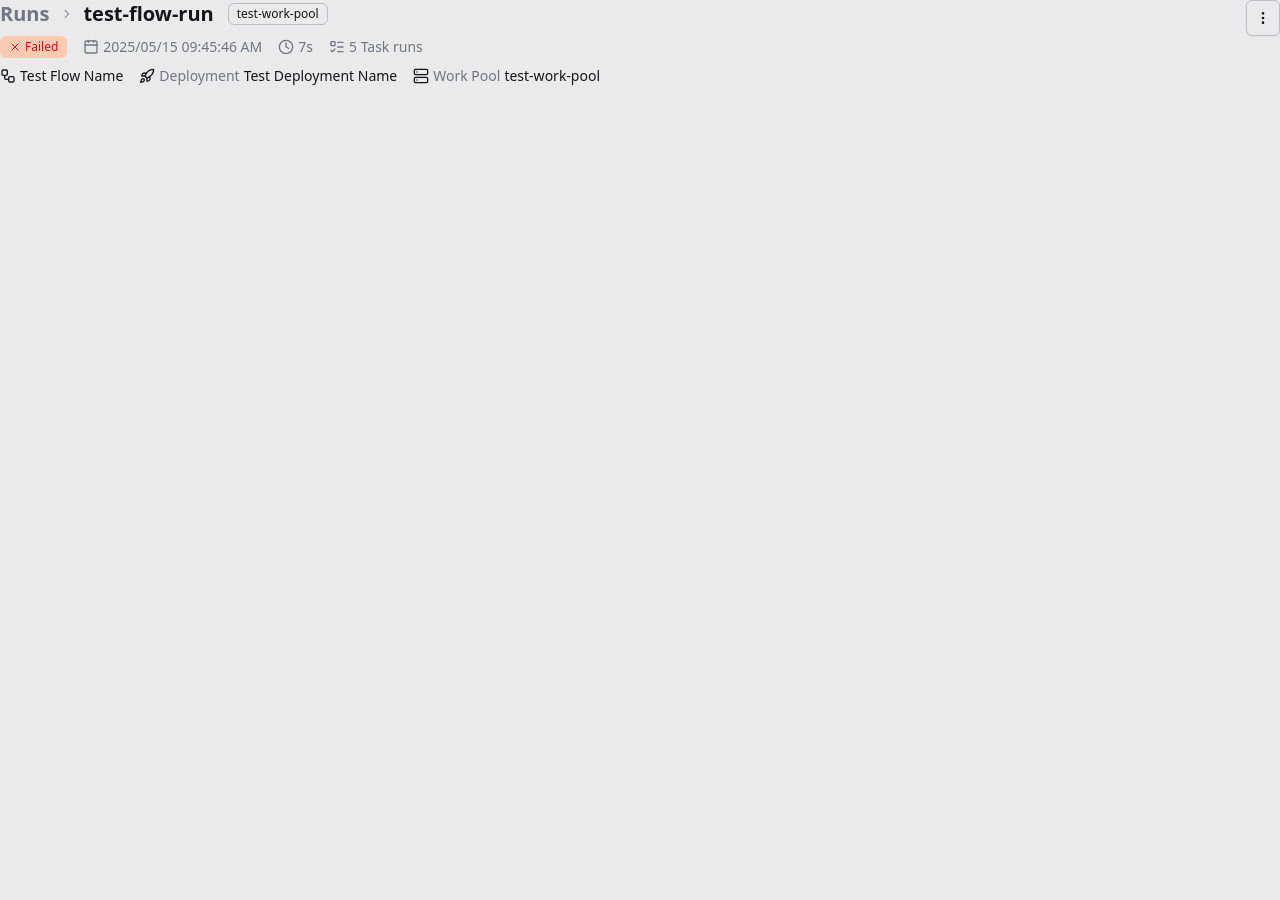
Test: FlowRunHeader › opens change state dialog when 'Change state' is clicked
Expected: the text "test-flow-run" is shown, [83,0,214,28]
Click the button.
click(1263, 18)  # box [1246,0,1279,36]
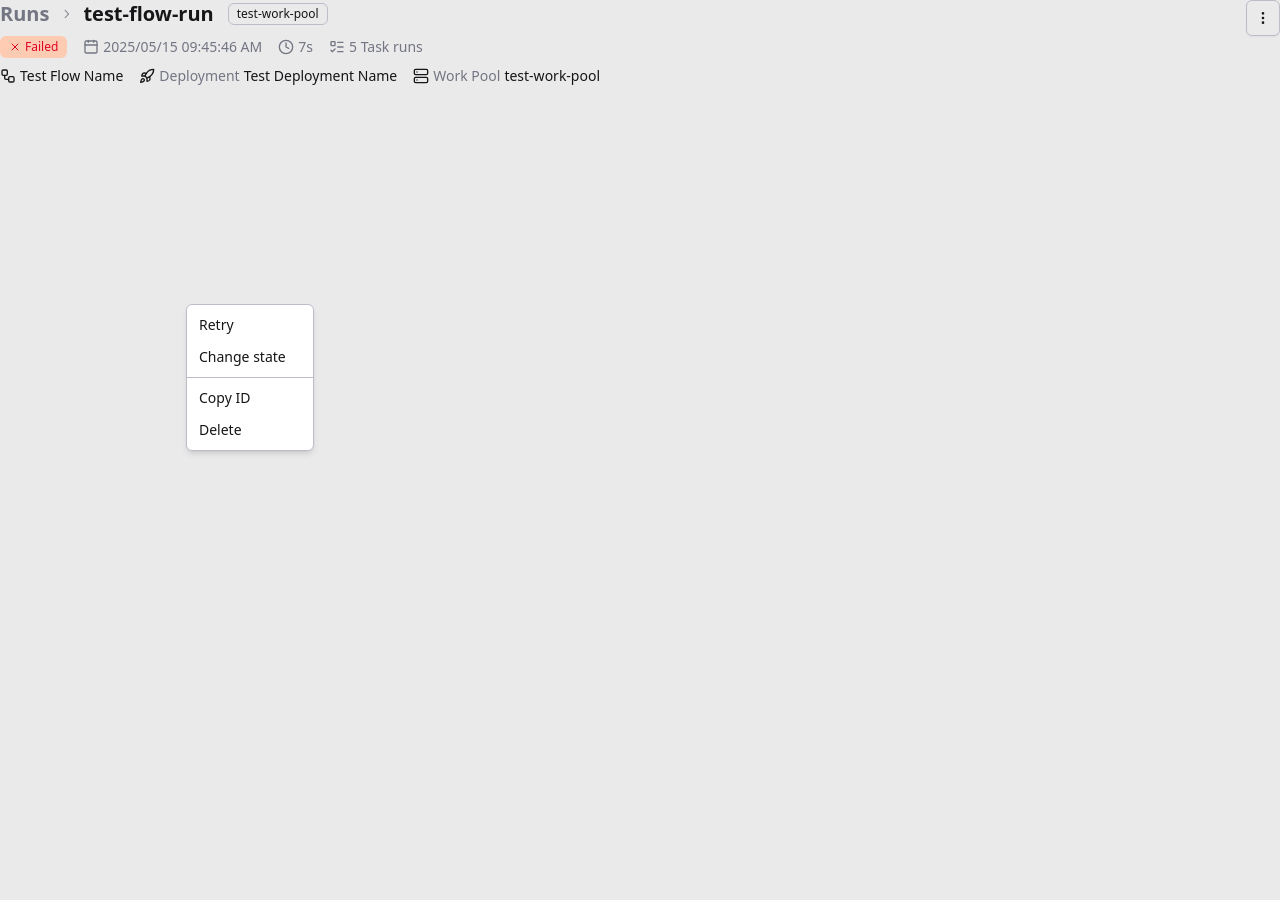
Now the menu item "Change state" is shown
Click the menu item "Change state".
click(242, 356)  # box [199,347,286,366]
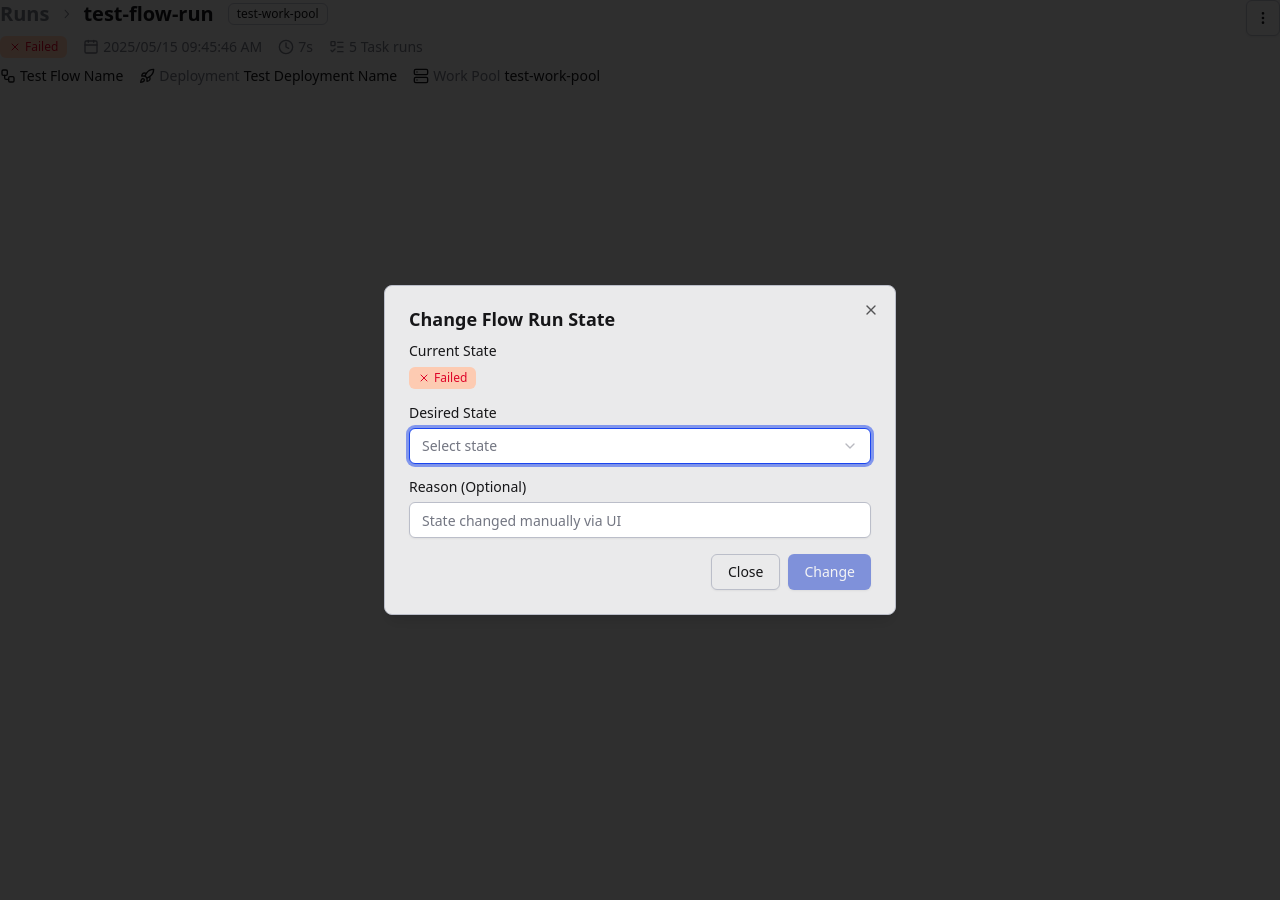
Now the heading "Change Flow Run State" is shown, box [409,307,615,331]
